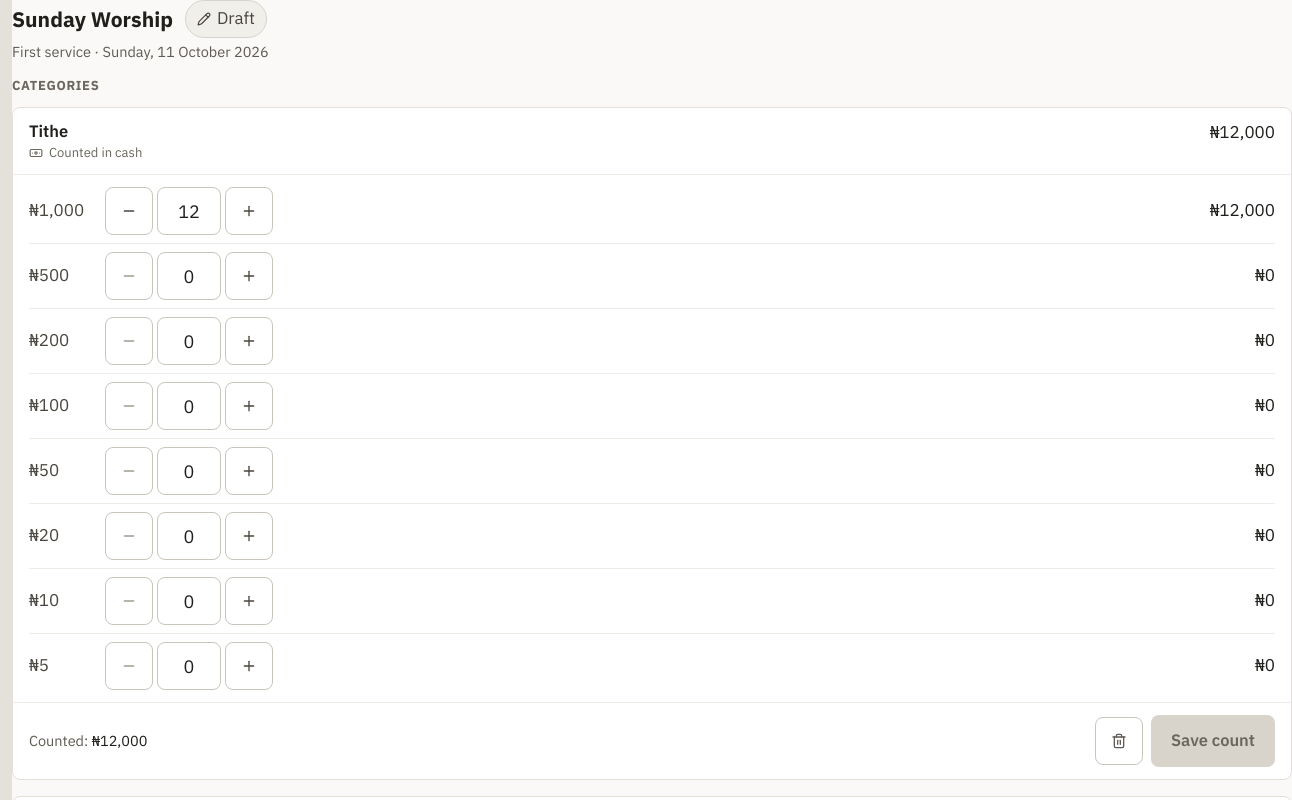
Test: saving the count › shows the server's figure once it answers, not the device's
Replace the text in the field named "How many 1,000 naira notes" with "20" at (189, 211), box [157,187,221,235]
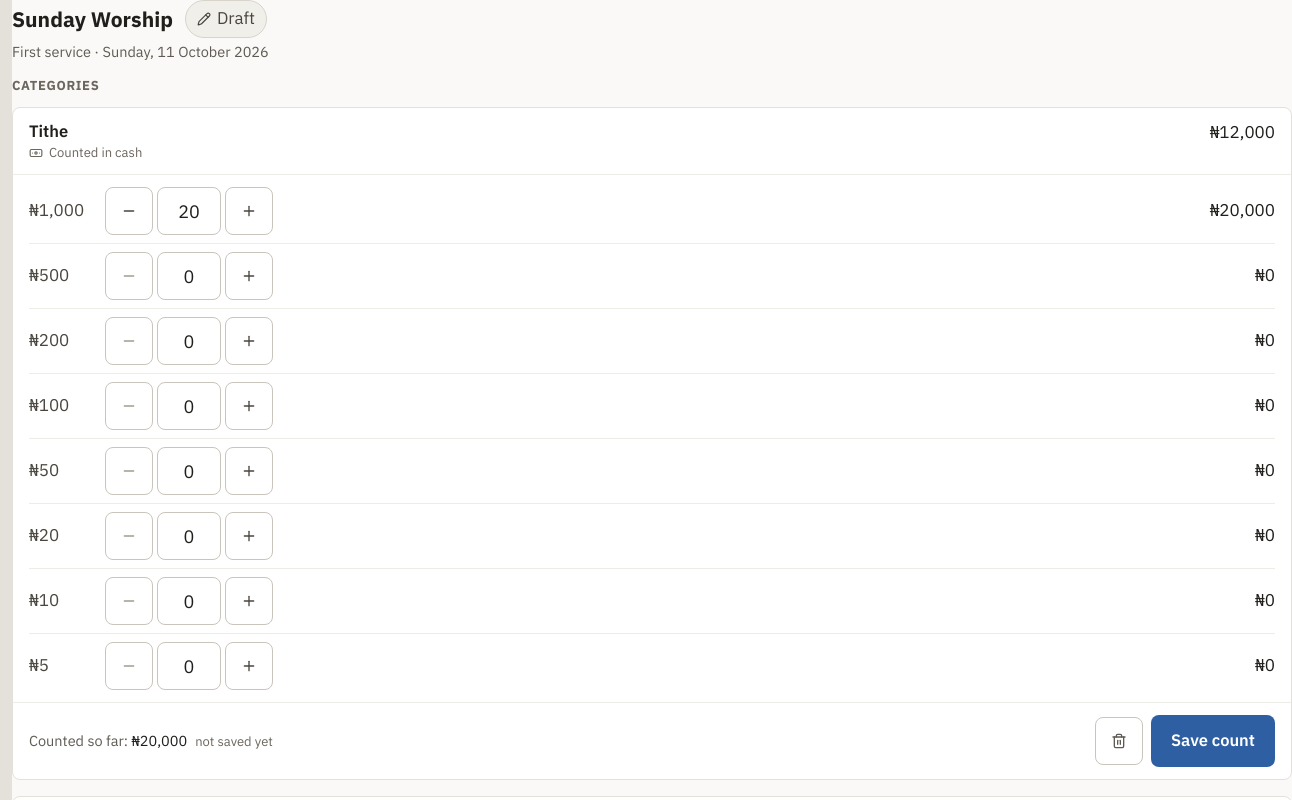
Click the button "Save count".
click(1213, 741)  # box [1151,715,1275,767]
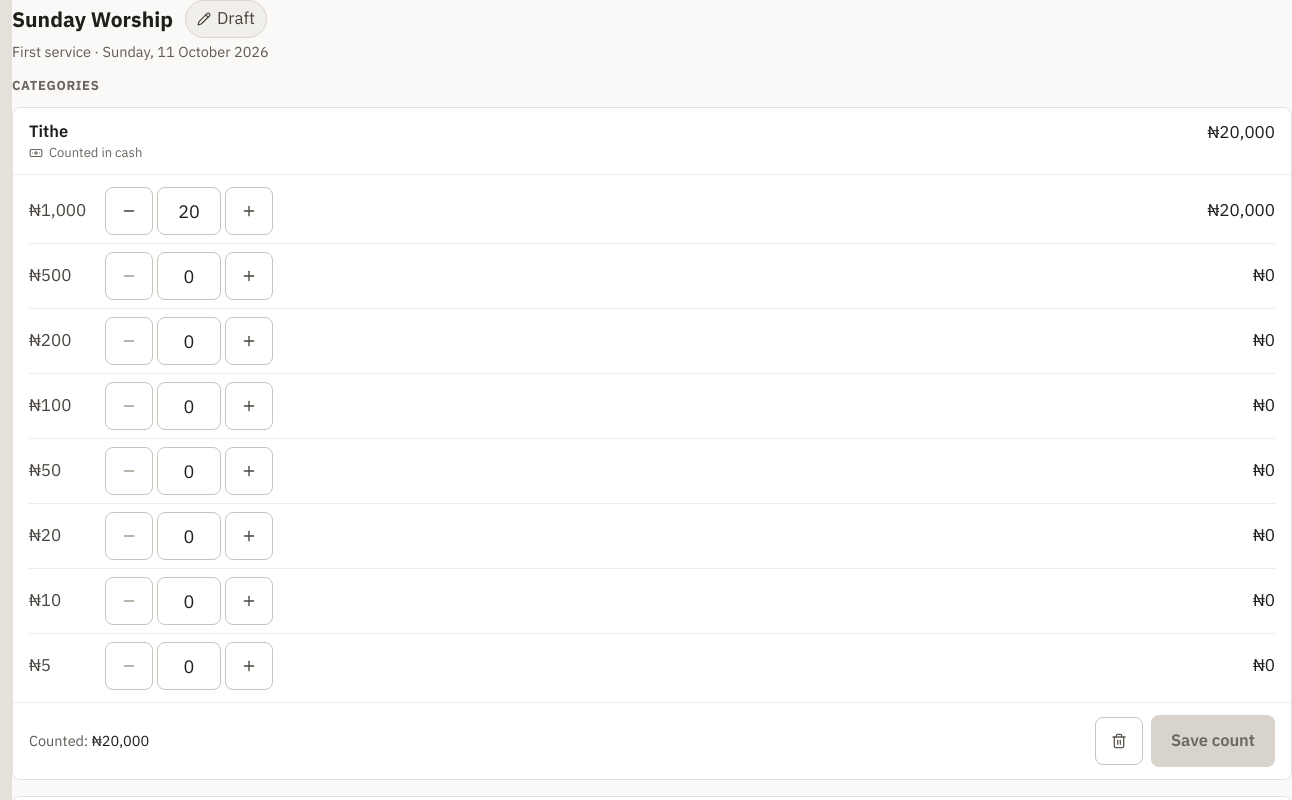
Expected: the element "Tithe" shows "₦20,000", [1208,121,1275,143]
Expected: the element "Tithe" shows "Counted:", [29,731,92,750]
